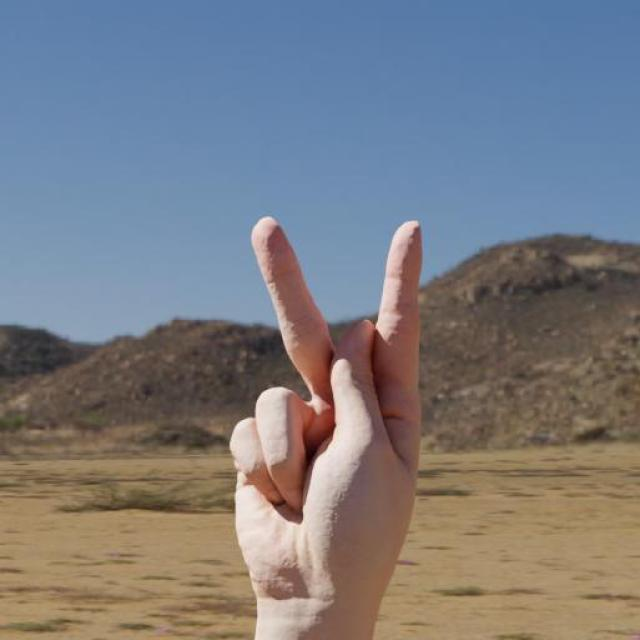K: (191, 193, 471, 635)
